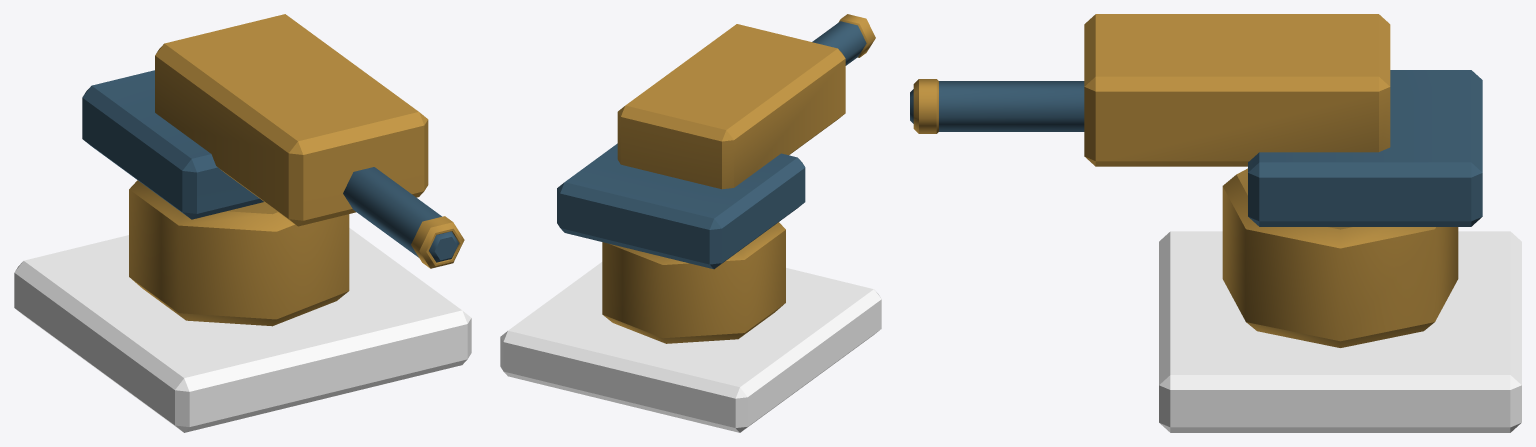
The model's file is R4W_Basic_LOD1.fbx.
3 renders of one model, left to right at view 1: azimuth 30°, elevation 25°; view 2: azimuth 150°, elevation 25°; view 3: azimuth 270°, elevation 25°, orthographic. The views are drawn at different scales.
Parts seen in each view (by area): view 1: R4W_Basic_LOD1; view 2: R4W_Basic_LOD1; view 3: R4W_Basic_LOD1.
Boxes of the visible parts, <box> form: R4W_Basic_LOD1: <box>14,14,471,432</box>; R4W_Basic_LOD1: <box>500,14,881,432</box>; R4W_Basic_LOD1: <box>910,14,1521,432</box>.
Size of the model in its own units: 0.51 by 0.49 by 0.86.
